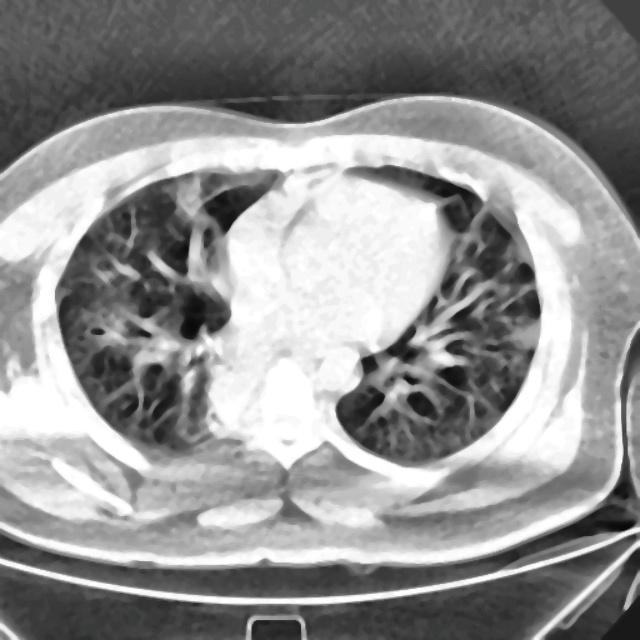covid: (0, 94, 639, 572)
